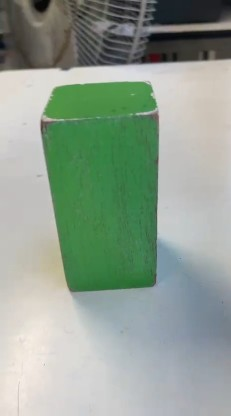green: (40, 84, 166, 298)
